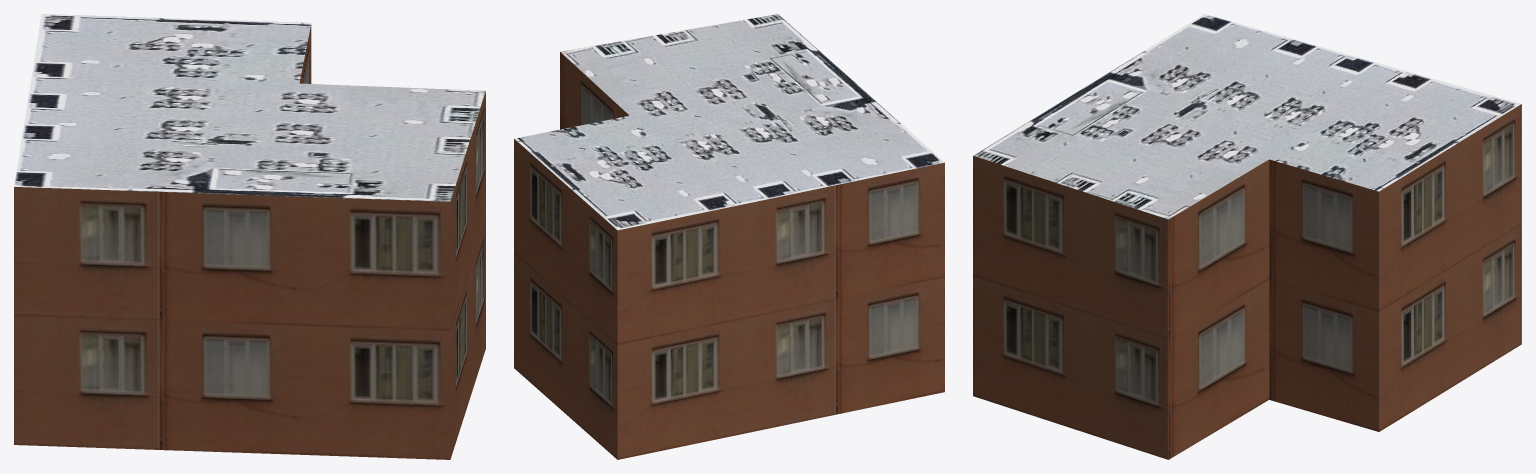
File: ResTex__4204.fbx
3 renders of one model, left to right at view 1: azimuth 30°, elevation 25°; view 2: azimuth 150°, elevation 25°; view 3: azimuth 270°, elevation 25°, orthographic. The views are drawn at different scales.
Parts seen in each view (by area): view 1: CityEngineMaterial_20_m, CityEngineMaterial_4_m; view 2: CityEngineMaterial_20_m, CityEngineMaterial_4_m; view 3: CityEngineMaterial_20_m, CityEngineMaterial_4_m.
Boxes of the visible parts, <box> form: CityEngineMaterial_20_m: <box>14,25,485,459</box>; CityEngineMaterial_4_m: <box>14,14,485,201</box>; CityEngineMaterial_20_m: <box>514,52,944,459</box>; CityEngineMaterial_4_m: <box>514,14,944,230</box>; CityEngineMaterial_20_m: <box>973,104,1521,459</box>; CityEngineMaterial_4_m: <box>973,14,1521,219</box>.
Bounding box in the file's own units: 11 × 6 × 12.41.
2 materials, 2 textured.
